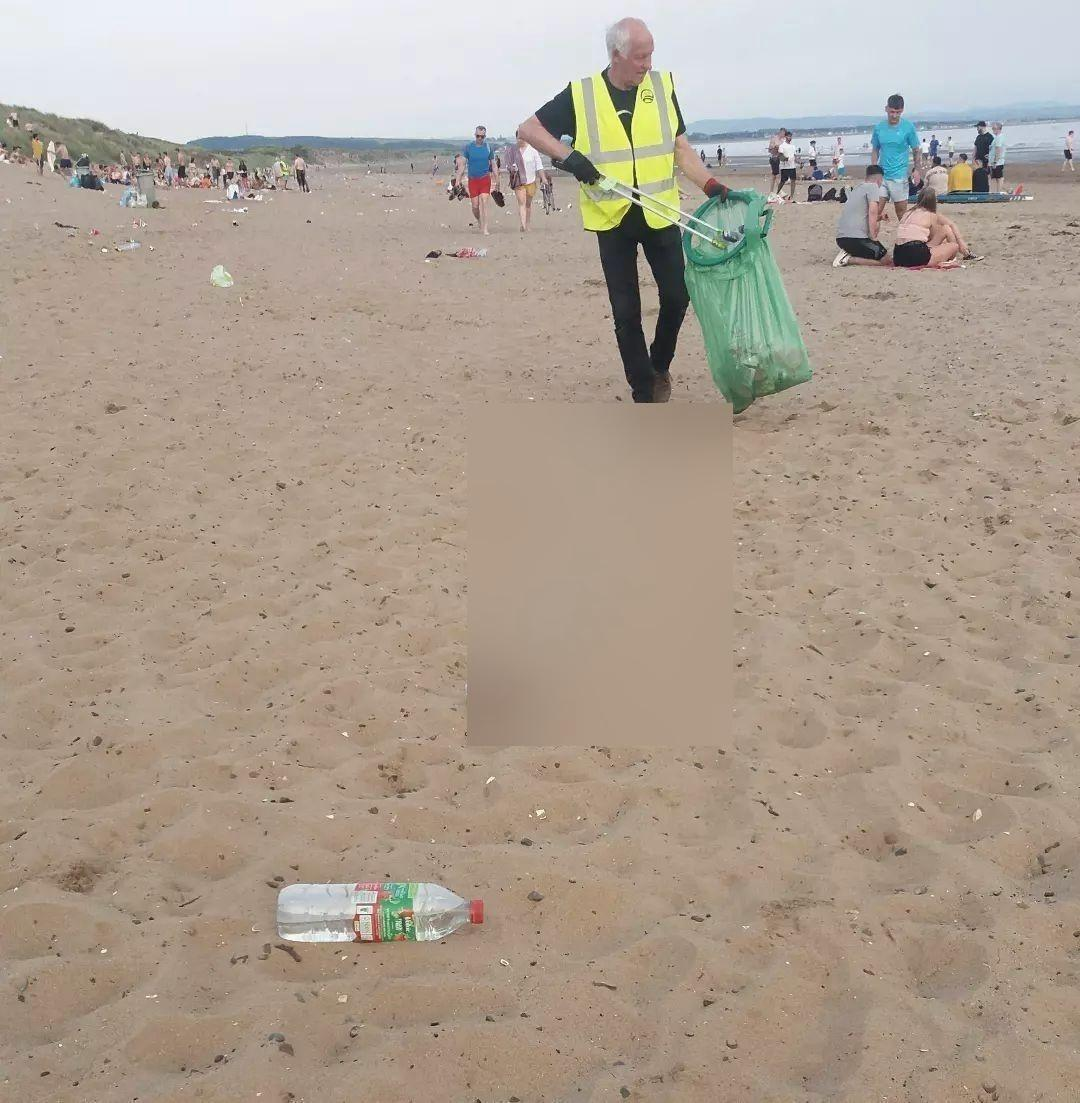bottle-plastic: (271, 868, 492, 963)
